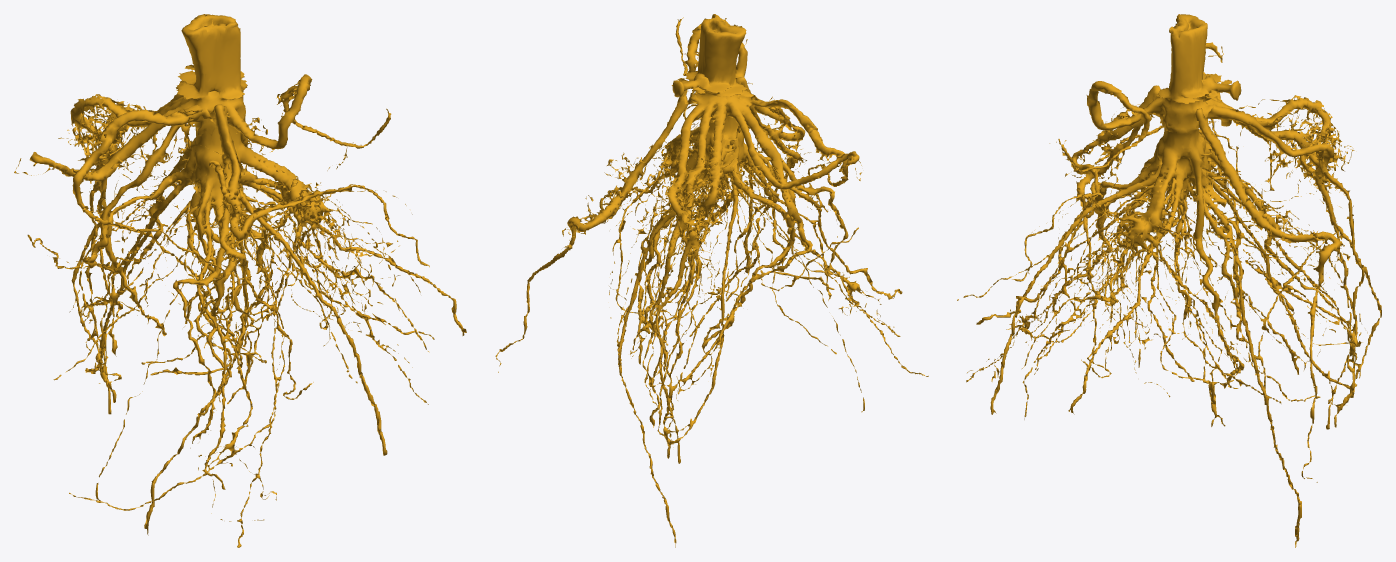
The model's file is roots.glb.
3 views of the same model, side by side, from view 1: azimuth 30°, elevation 25°; view 2: azimuth 150°, elevation 25°; view 3: azimuth 270°, elevation 25° (orthographic). The views are drawn at different scales.
Visible parts, largest first — view 1: Object_2; view 2: Object_2; view 3: Object_2.
Boxes of the visible parts, <box> form: Object_2: <box>14,14,466,547</box>; Object_2: <box>495,14,928,547</box>; Object_2: <box>957,14,1381,547</box>.
Size of the model in its own units: 0.774 by 1.07 by 0.7764.
